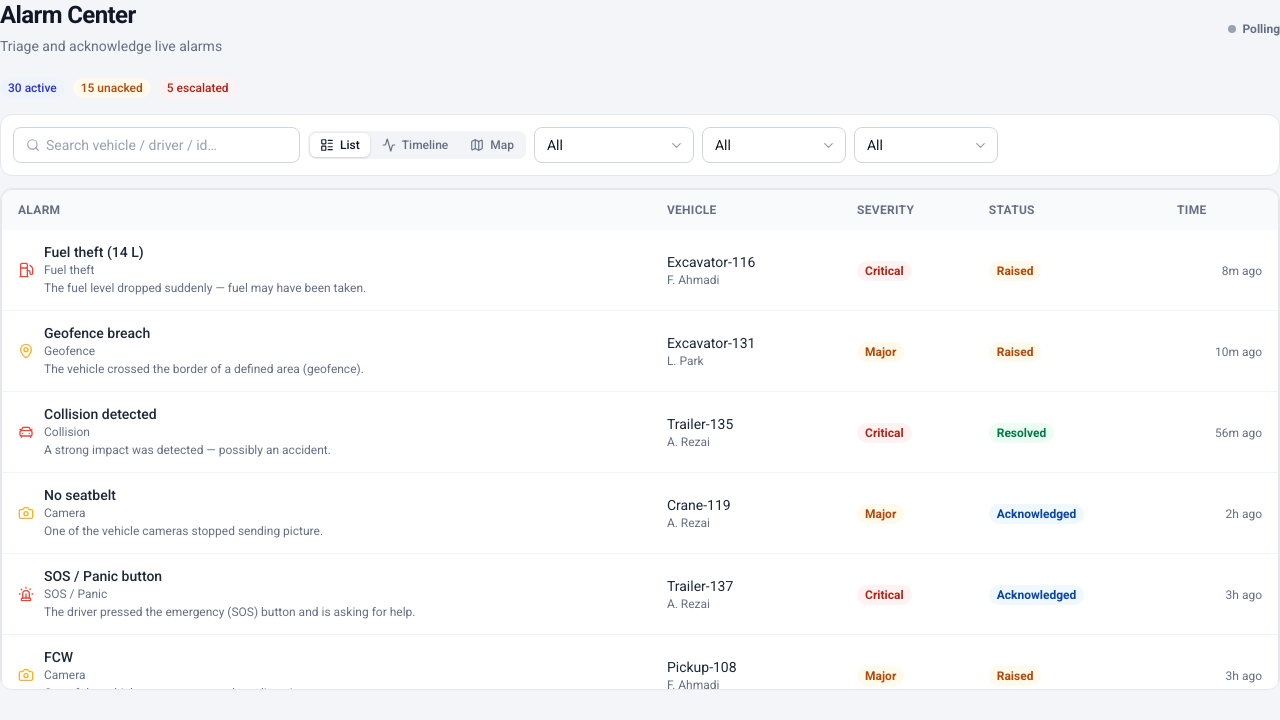
Test: AlarmCenterPage › switches to map even when an alarm drawer is open
Step 1. Click the text "Excavator-116" → point(711, 262), box [667, 254, 755, 270]
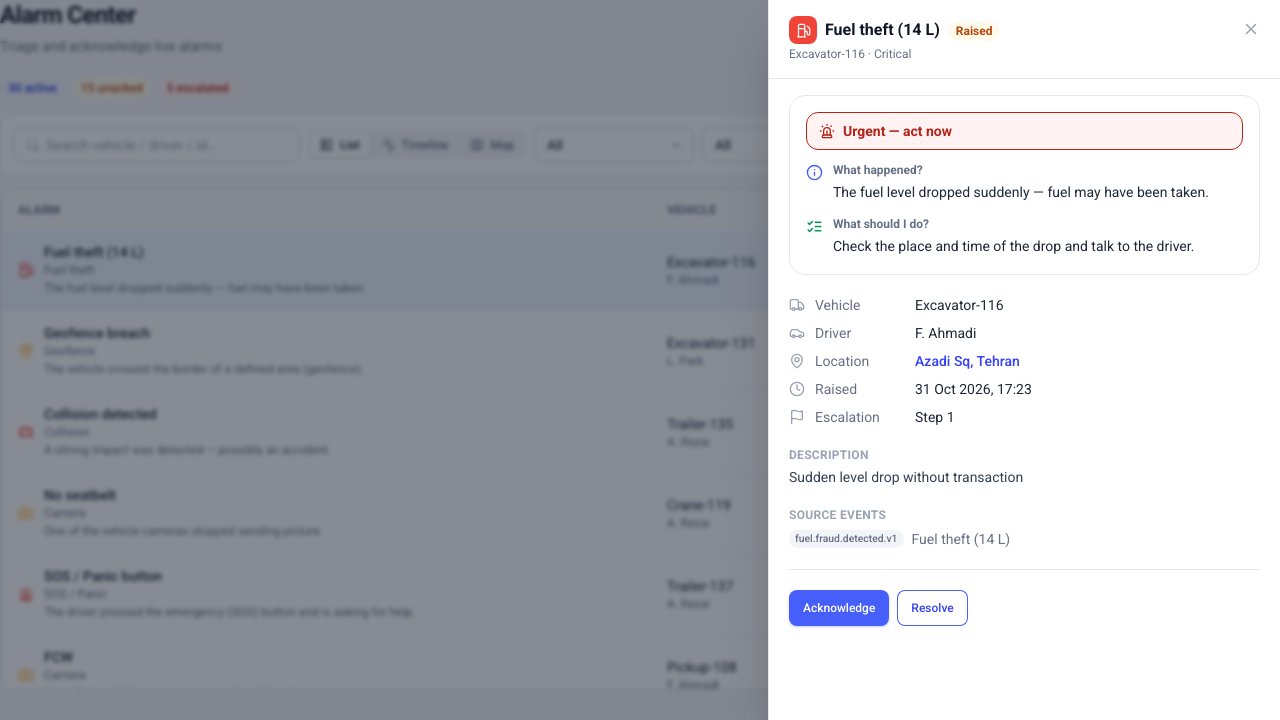
Now the dialog is shown, box [768, 0, 1279, 719]
Step 2. Click the radio button labelled "Map" → point(492, 145), box [460, 133, 524, 157]
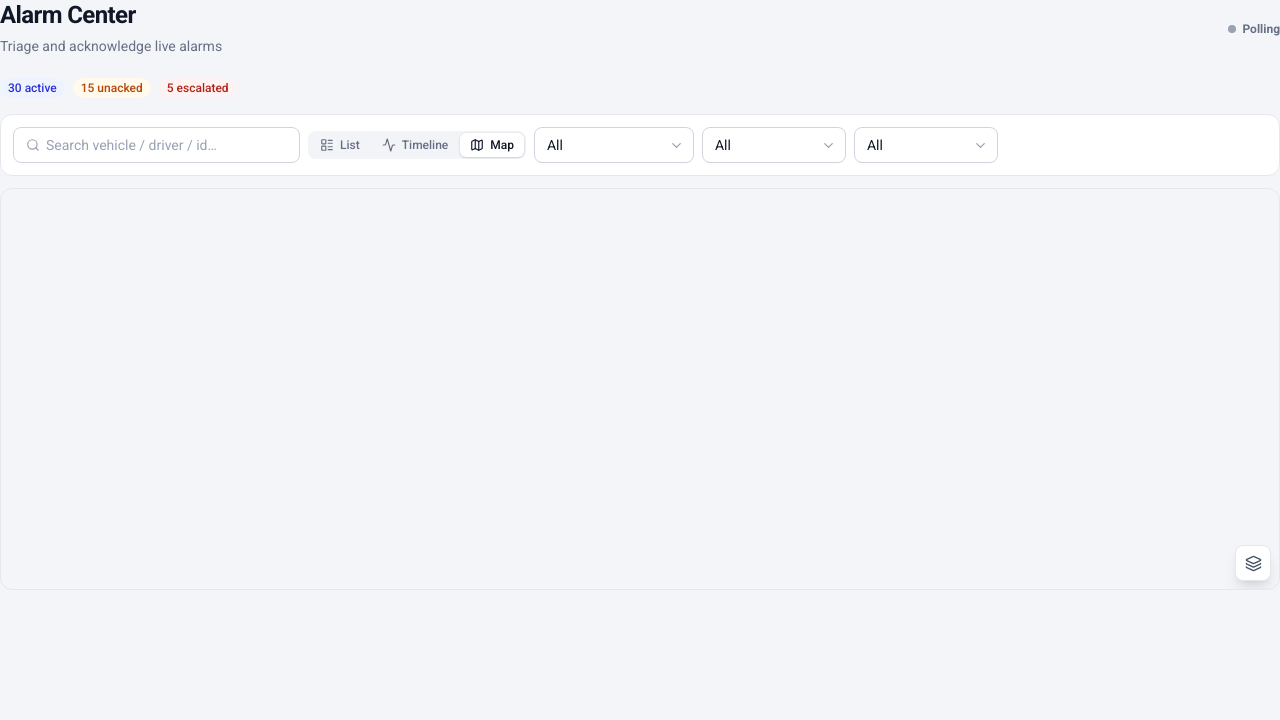
Now the column heading "Severity" is gone
Now the dialog is gone
